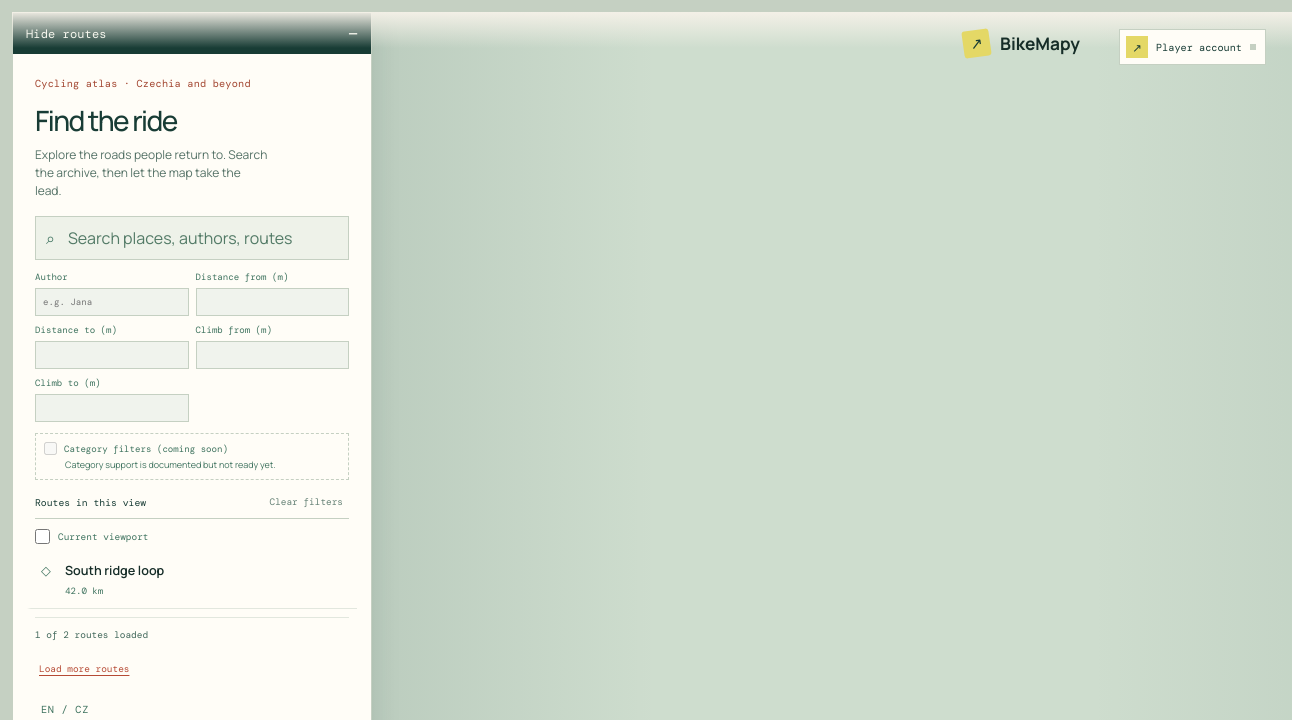
Test case: BikeMapy route discovery › preserves loaded routes and retries a failed later page
Click the button "Load more routes" at (84,669), box [35,649,134,689]
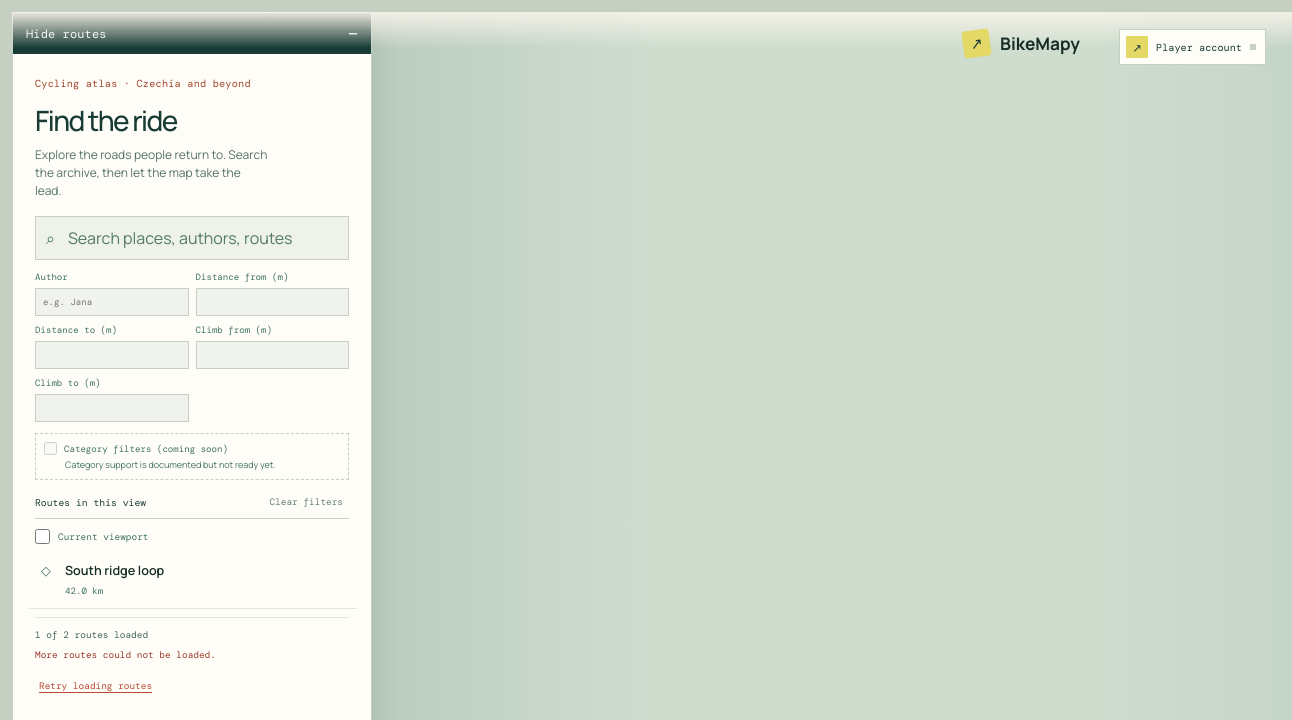
Expected: the button "◇ South ridge loop 42.0 km" is shown, [27,551,357,609]
Expected: the text "More routes could not be loaded." is shown, [35,649,216,661]
Click the button "Retry loading routes" at (96,686), box [35,666,156,706]
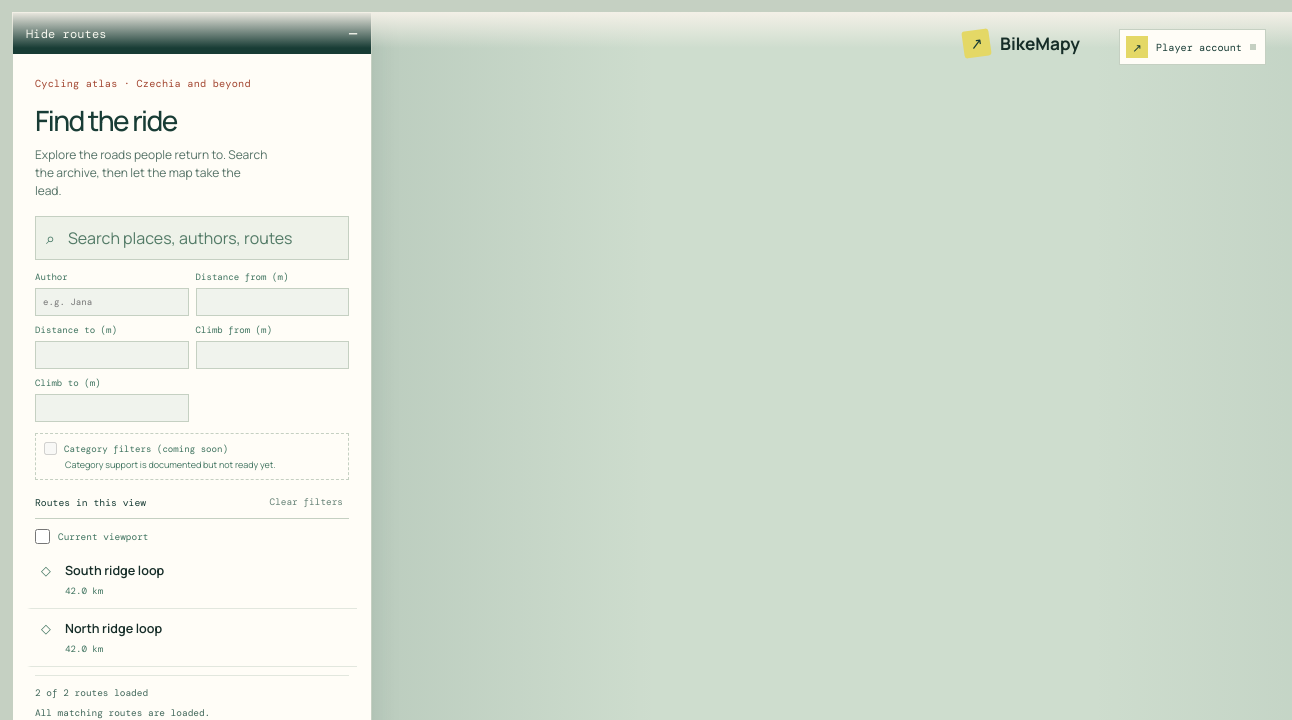
Expected: the button "◇ North ridge loop 42.0 km" is shown, [27,609,357,667]
